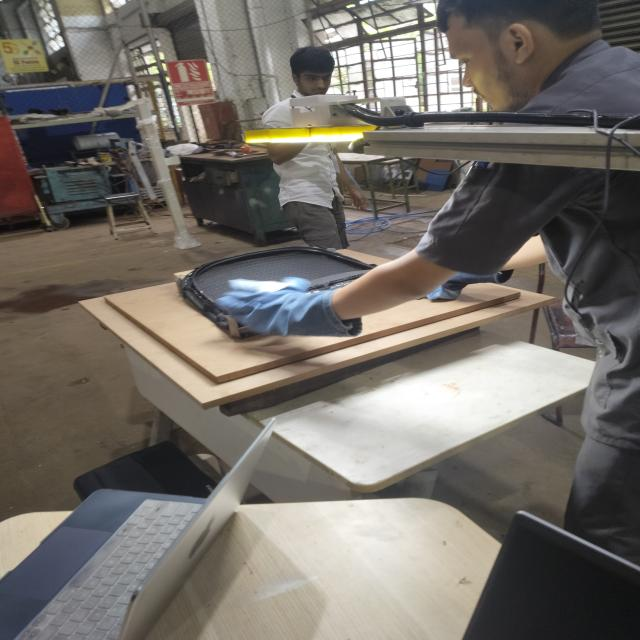Gloves-Detection: (225, 273, 354, 340)
